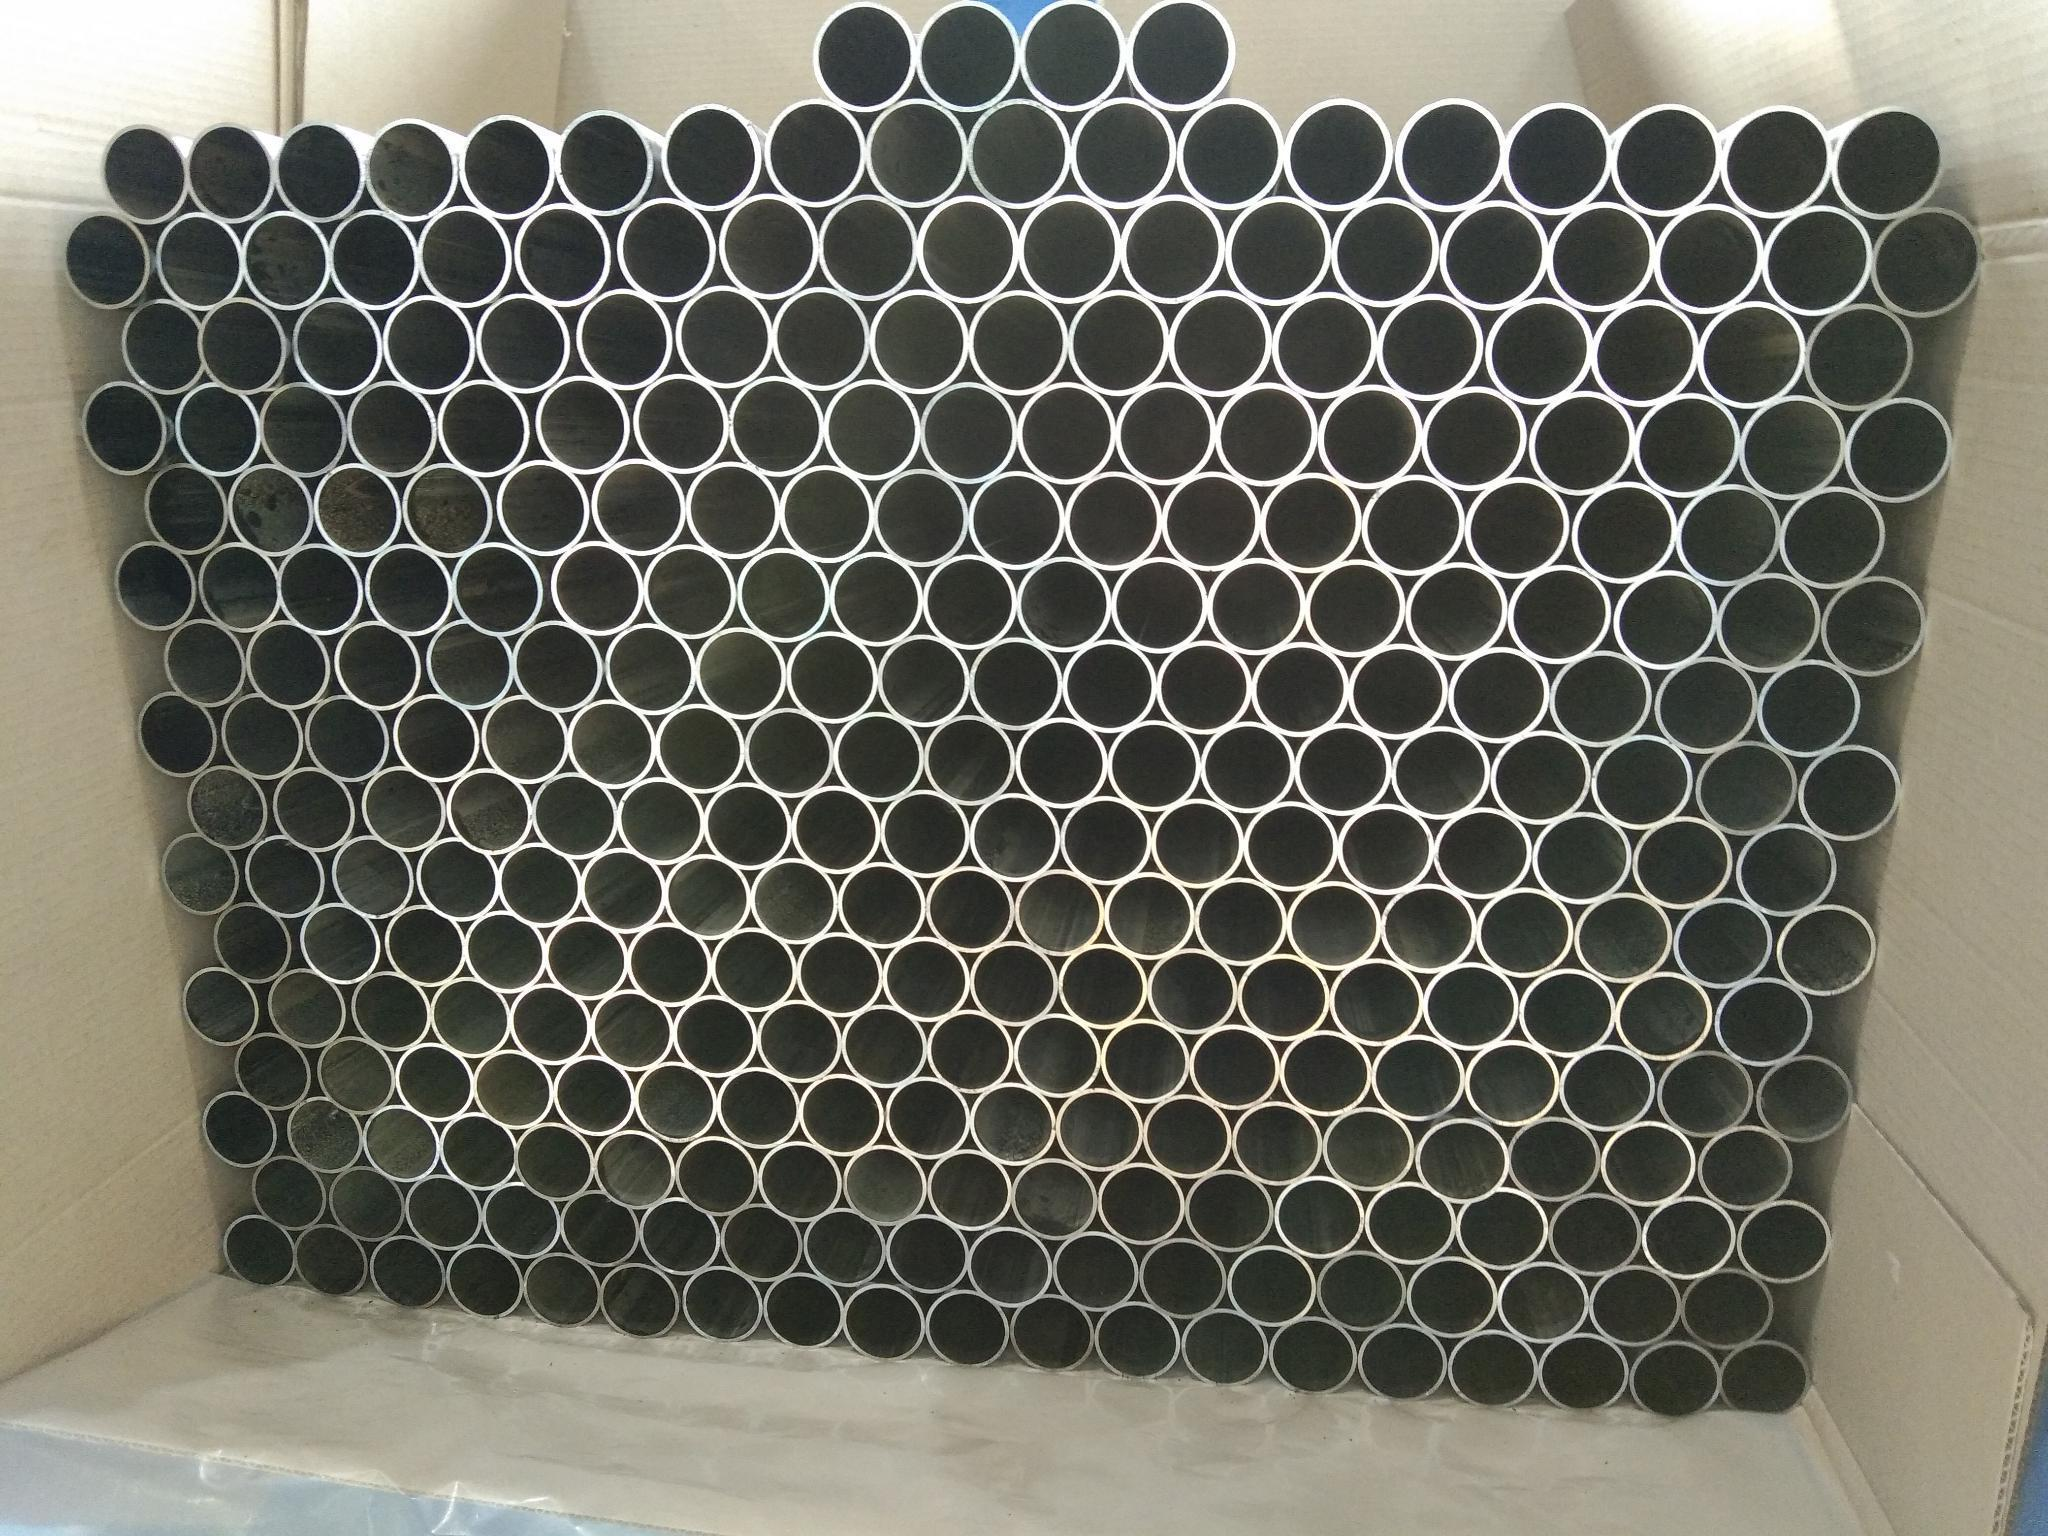pipe: (1871, 203, 1983, 321), (1830, 103, 1945, 218), (1393, 95, 1506, 211), (1719, 103, 1832, 218), (1761, 202, 1872, 316), (1282, 95, 1393, 210), (1653, 200, 1763, 315), (1546, 198, 1656, 313), (1329, 195, 1440, 307), (1437, 198, 1548, 310), (1501, 100, 1611, 213), (1609, 103, 1722, 213), (1069, 94, 1176, 210), (1126, 0, 1235, 111), (1176, 97, 1284, 210), (966, 95, 1072, 210), (1119, 192, 1226, 307), (1801, 302, 1911, 411), (1590, 295, 1698, 407), (1224, 194, 1332, 305), (811, 0, 919, 111), (1484, 295, 1592, 405), (1696, 298, 1804, 408), (914, 0, 1021, 111), (1016, 192, 1121, 305), (1376, 292, 1484, 400), (1632, 390, 1740, 499), (1019, 0, 1126, 110), (1271, 289, 1377, 399), (1166, 287, 1272, 397), (1843, 395, 1953, 502), (763, 95, 868, 207), (1066, 286, 1171, 397), (864, 95, 968, 208), (1526, 389, 1635, 494), (1737, 394, 1846, 499), (1419, 386, 1527, 490), (1463, 474, 1571, 579), (1779, 484, 1887, 589), (918, 192, 1019, 303), (1316, 384, 1422, 489), (818, 192, 919, 302), (660, 103, 764, 208), (1213, 381, 1317, 486), (1674, 482, 1780, 586), (1359, 473, 1466, 576), (718, 192, 819, 300), (968, 287, 1069, 395), (1569, 479, 1677, 581), (616, 195, 718, 302), (1819, 573, 1925, 674), (1714, 571, 1822, 671), (555, 110, 658, 213), (1259, 470, 1363, 573), (1114, 381, 1216, 486), (514, 200, 614, 307), (1611, 568, 1717, 668), (869, 287, 969, 394), (1505, 565, 1613, 663), (674, 284, 774, 389), (771, 284, 869, 390), (1651, 655, 1758, 753), (1159, 470, 1261, 571), (821, 378, 921, 481), (1016, 381, 1116, 484), (1063, 468, 1163, 571), (919, 379, 1018, 484), (1755, 658, 1859, 757), (1403, 561, 1508, 660), (1546, 649, 1653, 745), (1692, 739, 1798, 836), (458, 115, 558, 216), (574, 287, 674, 389), (418, 203, 514, 308), (1796, 744, 1901, 841), (1588, 734, 1695, 829), (1303, 558, 1405, 657), (476, 290, 572, 394), (727, 374, 824, 478), (364, 116, 460, 221), (1732, 821, 1837, 916), (534, 374, 632, 474), (1206, 557, 1306, 655), (632, 373, 729, 474), (56, 208, 153, 310), (1347, 642, 1448, 739), (1447, 647, 1550, 742), (1487, 729, 1592, 823), (1629, 815, 1734, 908), (493, 458, 592, 557), (437, 378, 534, 478), (684, 460, 780, 560), (872, 466, 969, 566), (274, 118, 368, 221), (97, 119, 190, 223), (1671, 897, 1775, 989), (921, 552, 1018, 650), (968, 470, 1064, 568), (1111, 555, 1208, 653), (1014, 553, 1111, 652), (590, 457, 685, 557), (779, 463, 874, 563), (1572, 891, 1674, 984), (1388, 724, 1490, 818), (185, 119, 277, 223), (329, 207, 421, 310), (1430, 807, 1534, 899), (1529, 812, 1632, 904), (548, 539, 645, 636), (642, 541, 737, 639), (1250, 641, 1348, 736), (382, 294, 476, 394), (290, 295, 384, 395), (1292, 721, 1392, 815), (1774, 902, 1875, 994), (242, 208, 332, 311), (1711, 976, 1814, 1066), (735, 545, 830, 642), (1155, 639, 1251, 734), (1335, 802, 1434, 895), (1198, 720, 1297, 813), (1474, 886, 1574, 978), (827, 550, 922, 645), (1061, 637, 1156, 733), (968, 634, 1063, 729), (874, 631, 969, 726), (1242, 799, 1338, 892), (347, 379, 439, 478), (200, 295, 290, 395), (155, 210, 244, 311), (1653, 1049, 1755, 1137), (453, 541, 547, 636), (402, 461, 495, 557), (1106, 718, 1201, 812), (81, 379, 173, 476), (1379, 881, 1476, 973), (1284, 879, 1380, 971), (1326, 957, 1424, 1047), (1598, 1118, 1696, 1208), (1556, 1044, 1656, 1133), (1613, 971, 1713, 1060), (1516, 968, 1616, 1057), (1753, 1052, 1853, 1141), (1693, 1123, 1793, 1212), (603, 621, 697, 715), (784, 629, 877, 723), (363, 541, 455, 636), (921, 713, 1016, 805), (1013, 716, 1108, 808), (311, 461, 402, 558), (1421, 960, 1517, 1050), (511, 620, 605, 712), (693, 626, 787, 718), (1150, 797, 1243, 889), (832, 708, 924, 802), (1058, 794, 1153, 884), (1369, 1033, 1464, 1123), (260, 381, 348, 478), (1463, 1039, 1559, 1128), (742, 705, 834, 797), (1101, 870, 1195, 960), (968, 791, 1061, 881), (173, 381, 261, 476), (1011, 868, 1106, 957), (227, 461, 316, 557), (1192, 876, 1287, 965), (1277, 1028, 1372, 1117), (1679, 1265, 1774, 1354), (1411, 1115, 1509, 1200), (1638, 1194, 1737, 1279), (121, 295, 205, 395), (1098, 1015, 1190, 1105), (877, 787, 969, 878), (332, 620, 424, 710), (111, 539, 200, 632), (1506, 1115, 1600, 1204), (277, 541, 364, 636), (1319, 1105, 1414, 1192), (1545, 1191, 1642, 1276), (655, 702, 745, 792), (701, 779, 792, 870), (1187, 1023, 1279, 1112), (245, 618, 334, 710), (1145, 945, 1237, 1034), (423, 621, 516, 708), (1235, 954, 1329, 1041), (1229, 1099, 1322, 1186), (1587, 1262, 1680, 1349), (1313, 1247, 1408, 1333), (1403, 1254, 1498, 1339), (1361, 1179, 1456, 1265), (1453, 1187, 1550, 1271), (566, 699, 656, 787), (790, 784, 880, 873), (835, 860, 926, 949), (392, 694, 482, 783), (614, 776, 705, 865), (1140, 1092, 1232, 1179), (966, 939, 1058, 1026), (1182, 1167, 1274, 1254), (1093, 1160, 1185, 1247), (197, 539, 281, 634), (1735, 1199, 1830, 1283), (748, 857, 839, 944), (793, 929, 884, 1016), (924, 865, 1014, 952), (161, 616, 248, 707), (1008, 1155, 1098, 1242), (302, 694, 392, 781), (1056, 942, 1147, 1029), (144, 461, 229, 553), (1495, 1260, 1588, 1344), (447, 766, 534, 855), (531, 771, 618, 860), (663, 852, 751, 939), (481, 695, 569, 783), (924, 1007, 1013, 1094), (1011, 1013, 1101, 1099), (1272, 1175, 1364, 1258), (1224, 1242, 1316, 1326), (1629, 1338, 1721, 1421), (579, 845, 666, 933), (218, 692, 305, 779), (839, 1004, 927, 1089), (269, 765, 358, 850), (708, 926, 798, 1010), (1053, 1087, 1143, 1171), (358, 766, 448, 850), (1266, 1313, 1358, 1396), (1537, 1331, 1629, 1413), (1356, 1320, 1448, 1402), (1447, 1326, 1538, 1409), (924, 1147, 1011, 1233), (714, 1065, 801, 1150), (626, 921, 713, 1007), (880, 936, 969, 1020), (882, 1076, 971, 1160), (968, 1081, 1056, 1165), (240, 836, 331, 918), (1135, 1236, 1226, 1318), (1719, 1339, 1811, 1420), (884, 1212, 969, 1297), (632, 1060, 718, 1146), (798, 1071, 884, 1157), (964, 1223, 1051, 1307), (542, 916, 629, 1000), (755, 999, 842, 1083), (755, 1139, 843, 1221), (329, 836, 418, 918), (1050, 1229, 1138, 1312), (1179, 1307, 1269, 1388), (497, 842, 582, 926), (414, 837, 500, 921), (589, 987, 674, 1071), (185, 765, 271, 849), (800, 1207, 887, 1289), (840, 1142, 927, 1225), (590, 1128, 677, 1210), (671, 994, 758, 1076), (1092, 1299, 1180, 1379), (550, 1054, 635, 1136), (924, 1286, 1009, 1368), (426, 976, 511, 1058), (506, 983, 592, 1065), (297, 902, 382, 984), (381, 905, 466, 987), (672, 1134, 760, 1215), (137, 691, 218, 778), (842, 1279, 926, 1362), (471, 1047, 555, 1129), (463, 908, 545, 992), (158, 834, 242, 916), (211, 900, 295, 983), (1008, 1294, 1095, 1373), (761, 1270, 845, 1350), (598, 1260, 682, 1341), (347, 971, 431, 1052), (718, 1202, 803, 1281), (263, 968, 348, 1047), (435, 1110, 518, 1191), (681, 1263, 763, 1344), (513, 1120, 595, 1200), (637, 1197, 721, 1276), (556, 1189, 640, 1268), (521, 1249, 601, 1329), (393, 1041, 474, 1121), (402, 1171, 482, 1252), (326, 1163, 406, 1244), (181, 966, 261, 1047), (479, 1181, 561, 1260), (314, 1036, 397, 1115), (231, 1031, 313, 1108), (281, 1097, 363, 1175), (361, 1104, 440, 1183), (447, 1241, 524, 1320), (369, 1234, 447, 1312), (250, 1155, 327, 1233), (200, 1092, 279, 1168), (219, 1213, 295, 1291), (292, 1223, 369, 1299)
